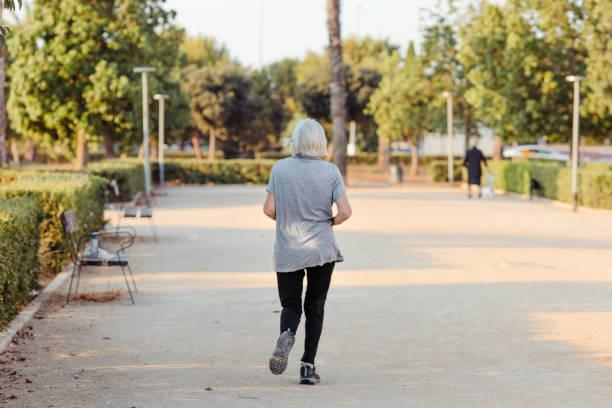Human: (247, 112, 356, 408)
